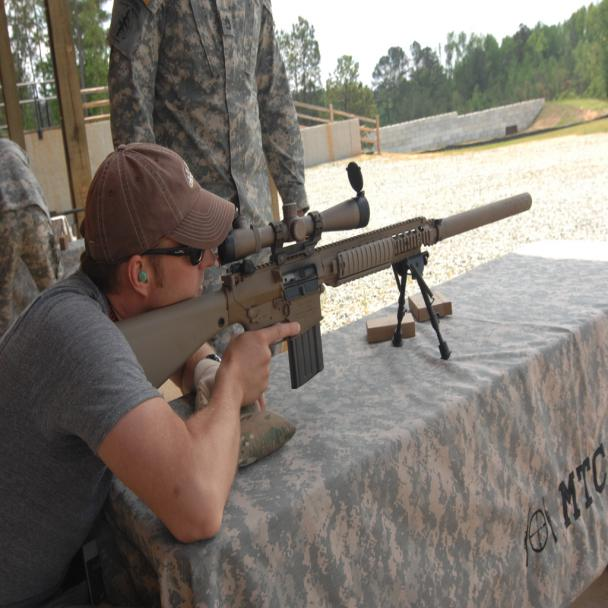Gun: (134, 179, 542, 340)
